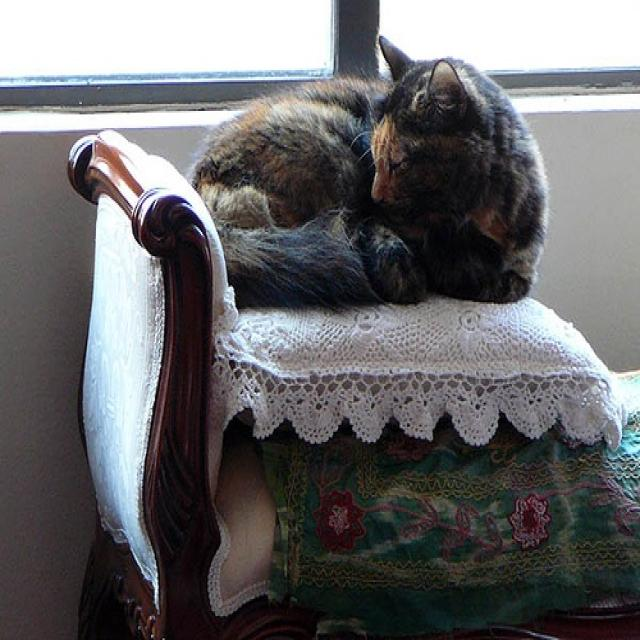cat: (187, 37, 553, 306)
